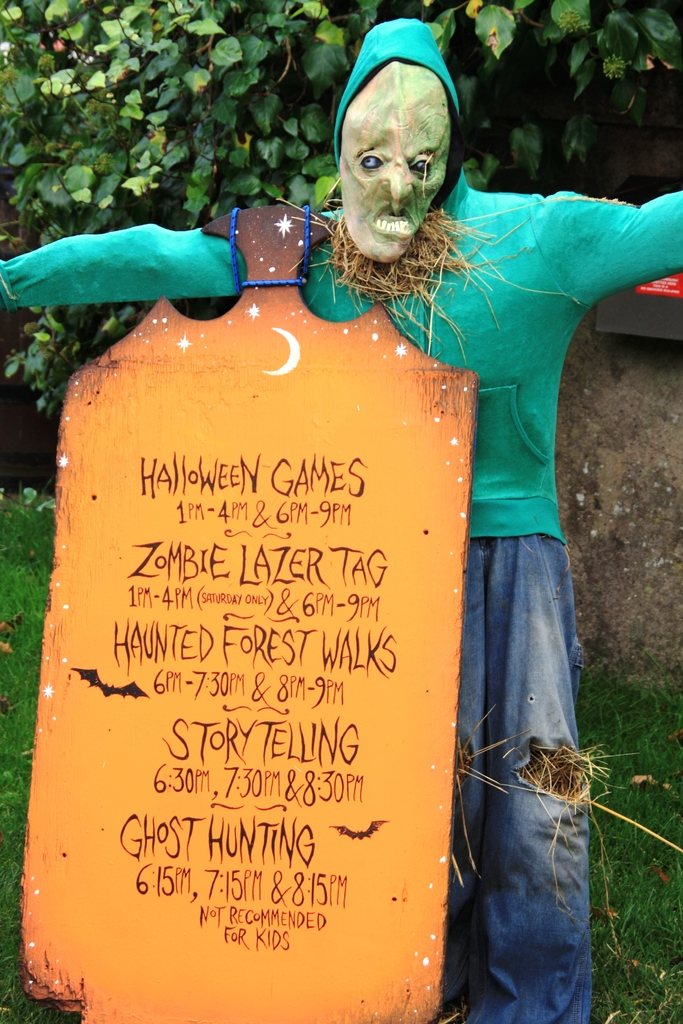Tree: (0, 0, 682, 429)
